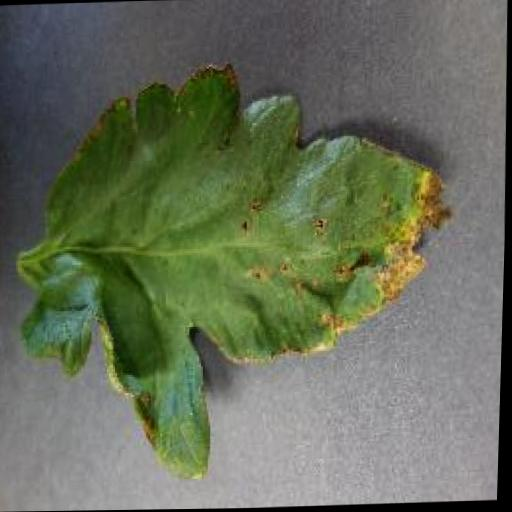Bacterial Spot: (2, 44, 475, 493)
